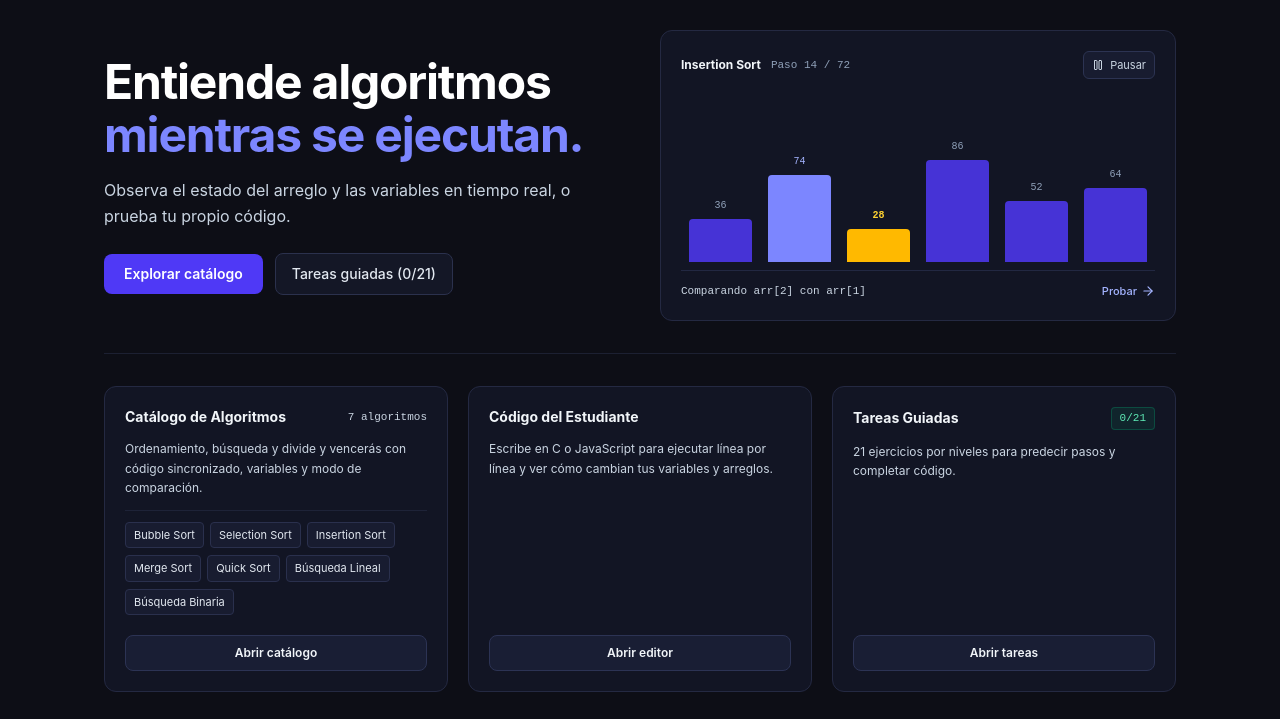
Scenario: Tareas accesibles sin cuenta, ocultamiento CSV y sincronización al conectarse › permite usar Tareas sin cuenta y fusiona el avance local con Google Sheets al conectarse
This screenshot has width=1280, height=719.
Later steps or results of the test are not shown.
What coordinates should you click on to do the following:
click the button "Abrir tareas"
I would click on:
 (1004, 653)
Its box is left=853, top=635, right=1155, bottom=671.
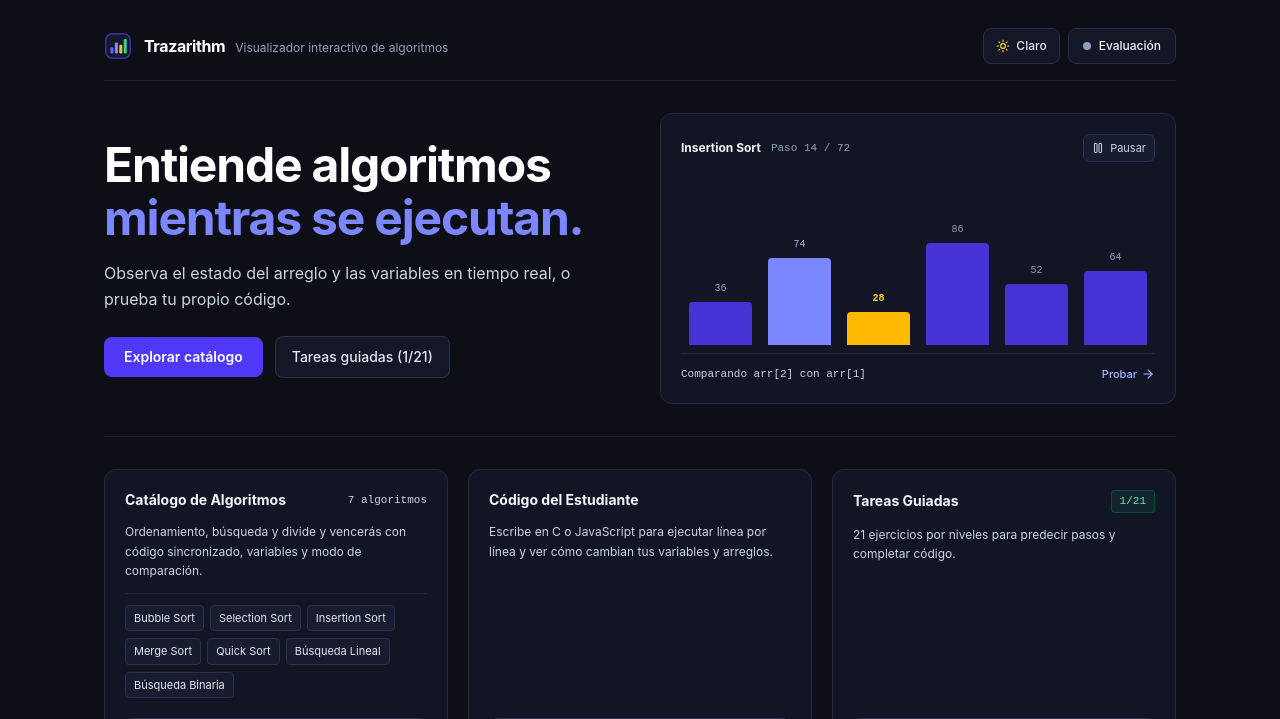
Now the text "1/21" is shown, box left=275, top=336, right=450, bottom=378
What coordinates should you click on to do the following:
click the button "Evaluación"
I would click on:
 (1122, 46)
Its box is left=1068, top=28, right=1176, bottom=64.
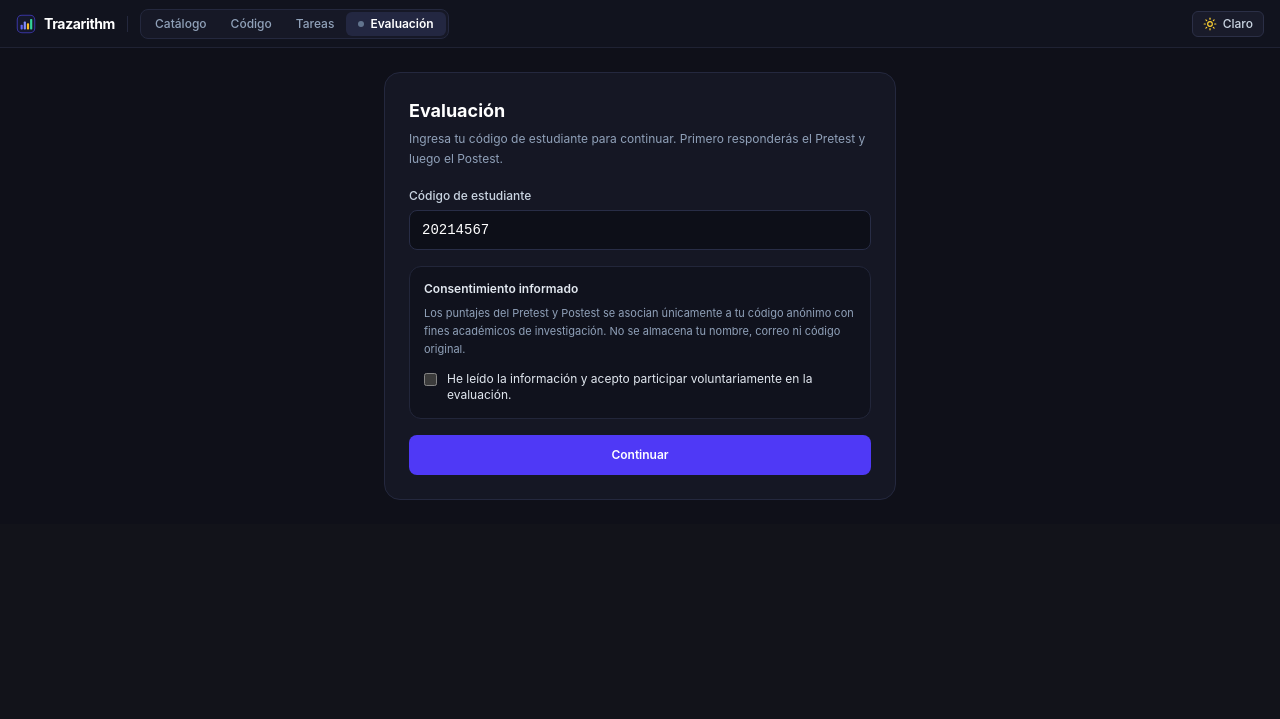
Now the field is shown, box left=409, top=210, right=871, bottom=250
Now the checkbox is shown, box left=424, top=373, right=437, bottom=386
Now the button "Continuar" is shown, box left=409, top=435, right=871, bottom=475
